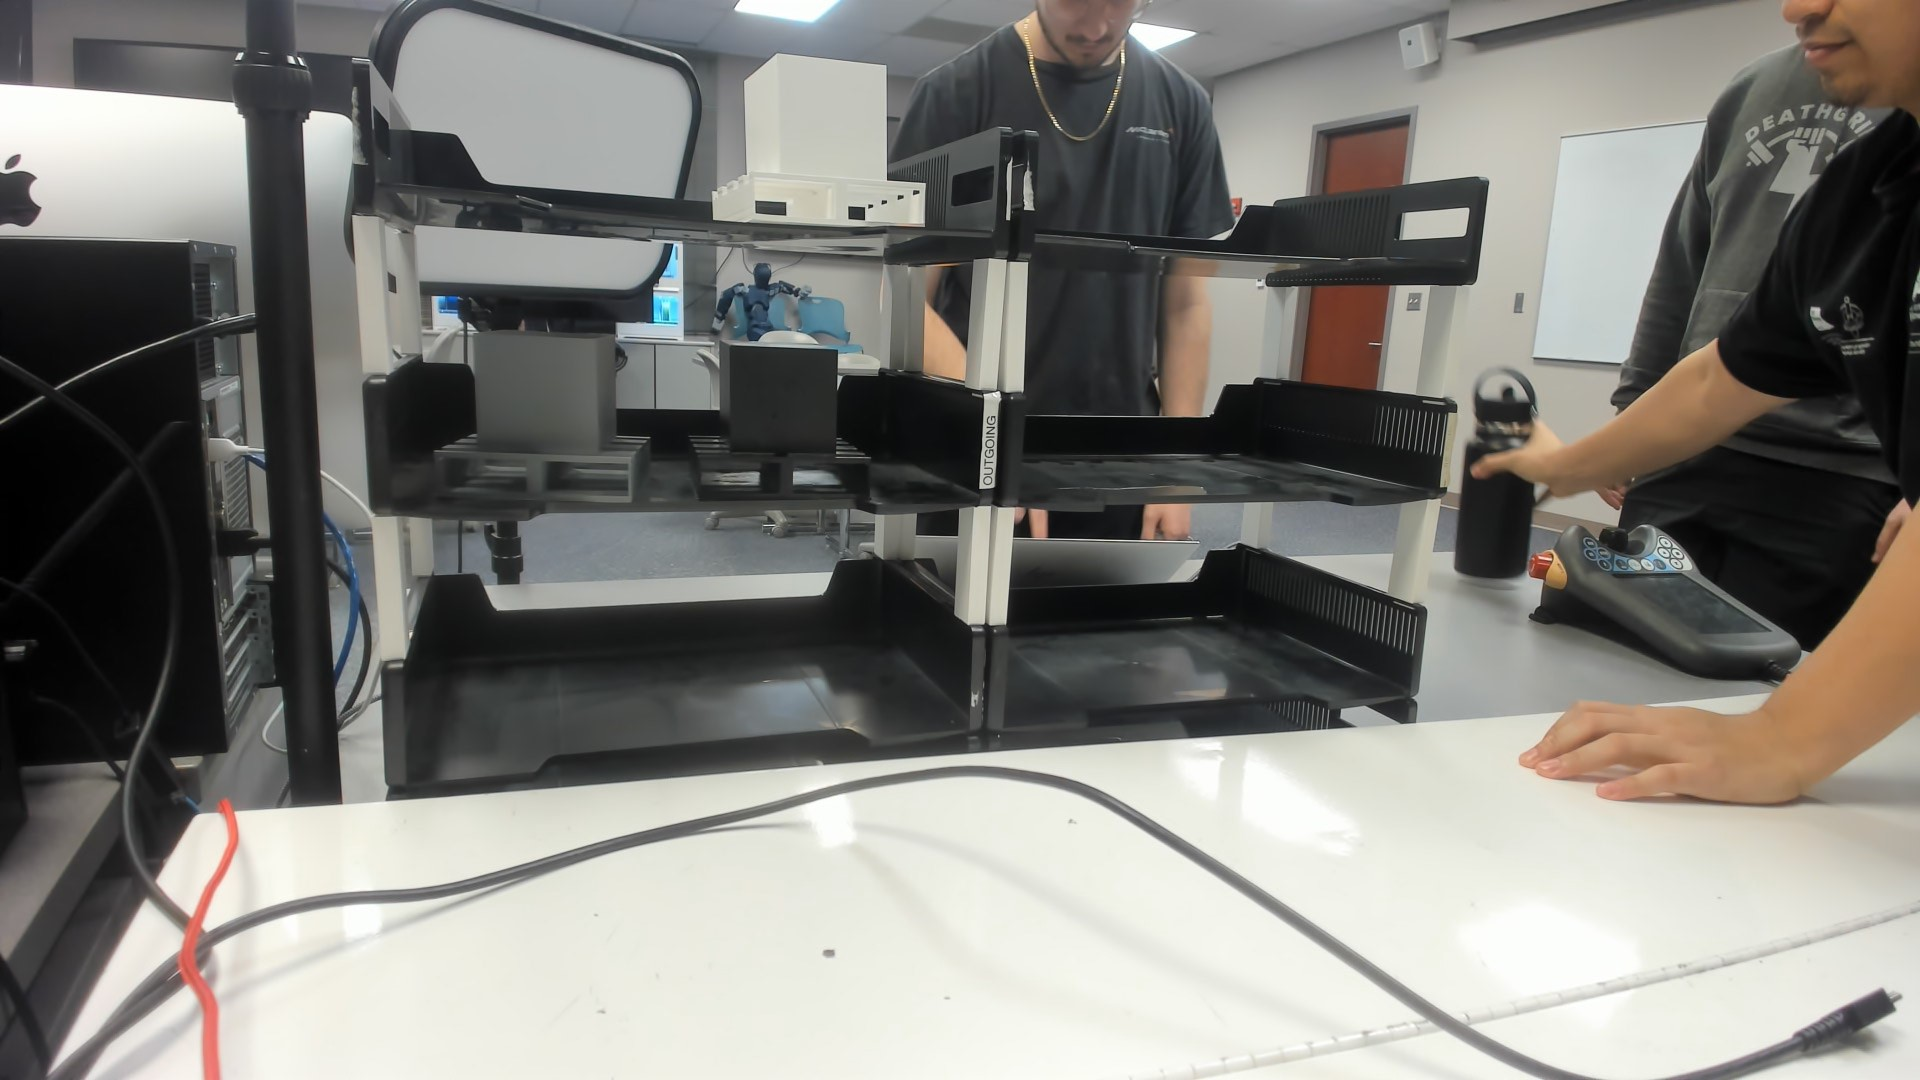black pallet: (680, 338, 877, 516)
grey pallet: (430, 324, 665, 516)
white pallet: (704, 49, 934, 241)
